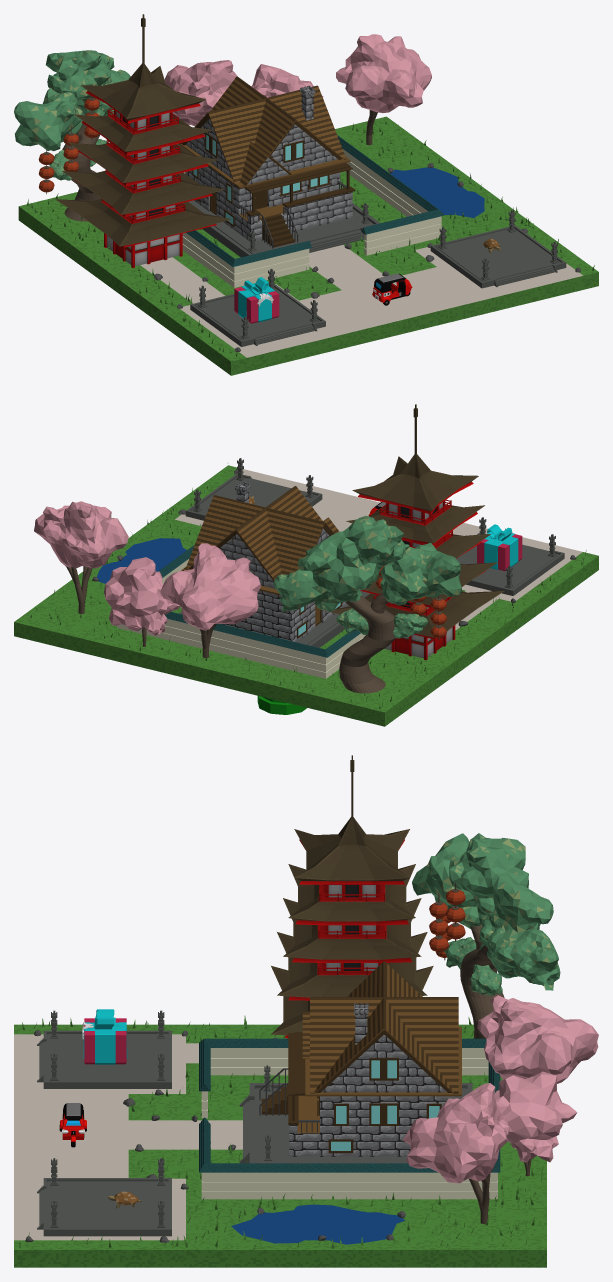
3 renders of one model, top to bottom at view 1: azimuth 30°, elevation 25°; view 2: azimuth 150°, elevation 25°; view 3: azimuth 270°, elevation 25°, orthographic. The views are drawn at different scales.
Parts seen in each view (by area): view 1: Cube.005, Cube.586, OBJRANDOM_GIANT_PRESENT, VEHICLES_TUC_TUC; view 2: Cube.005, Cube.586, OBJRANDOM_GIANT_PRESENT, UNDERGROUND_PIPES; view 3: Cube.005, Cube.586, OBJRANDOM_GIANT_PRESENT, VEHICLES_TUC_TUC.
Part boxes in pixels (x1=…): Cube.005: x1=14, y1=14, x2=598, y2=375; Cube.586: x1=179, y1=76, x2=355, y2=248; OBJRANDOM_GIANT_PRESENT: x1=234, y1=277, x2=279, y2=323; VEHICLES_TUC_TUC: x1=372, y1=273, x2=412, y2=305; Cube.005: x1=14, y1=404, x2=598, y2=726; Cube.586: x1=181, y1=481, x2=347, y2=641; OBJRANDOM_GIANT_PRESENT: x1=477, y1=524, x2=522, y2=570; UNDERGROUND_PIPES: x1=257, y1=696, x2=306, y2=714; Cube.005: x1=14, y1=755, x2=598, y2=1267; Cube.586: x1=259, y1=961, x2=461, y2=1156; OBJRANDOM_GIANT_PRESENT: x1=82, y1=1009, x2=127, y2=1064; VEHICLES_TUC_TUC: x1=59, y1=1103, x2=86, y2=1147.
Size of the model in its own units: 4528 by 3273 by 4389.
Materials: 39 (6 with a texture image).
